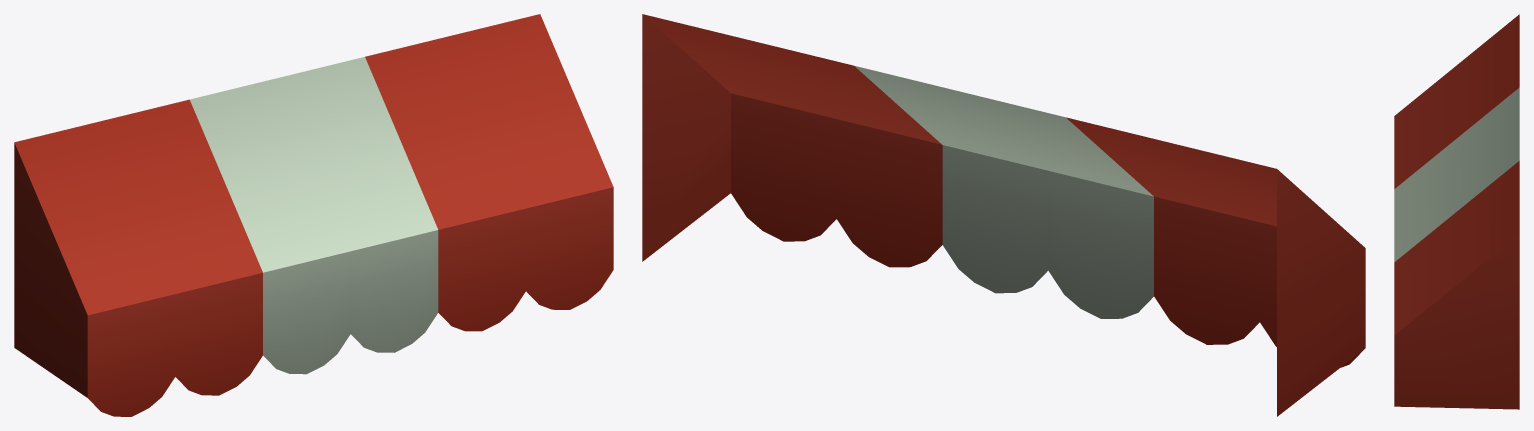
The model's file is Awning_01B.fbx.
3 renders of one model, left to right at view 1: azimuth 30°, elevation 25°; view 2: azimuth 150°, elevation 25°; view 3: azimuth 270°, elevation 25°, orthographic. The views are drawn at different scales.
Visible parts, largest first — view 1: Awning_01B; view 2: Awning_01B; view 3: Awning_01B.
Part boxes in pixels (x1,y1,x2,y2): Awning_01B: [14, 14, 613, 416]; Awning_01B: [642, 14, 1365, 416]; Awning_01B: [1394, 14, 1519, 409].
Size of the model in its own units: 241 by 101 by 58.18.
1 material, 1 textured.
